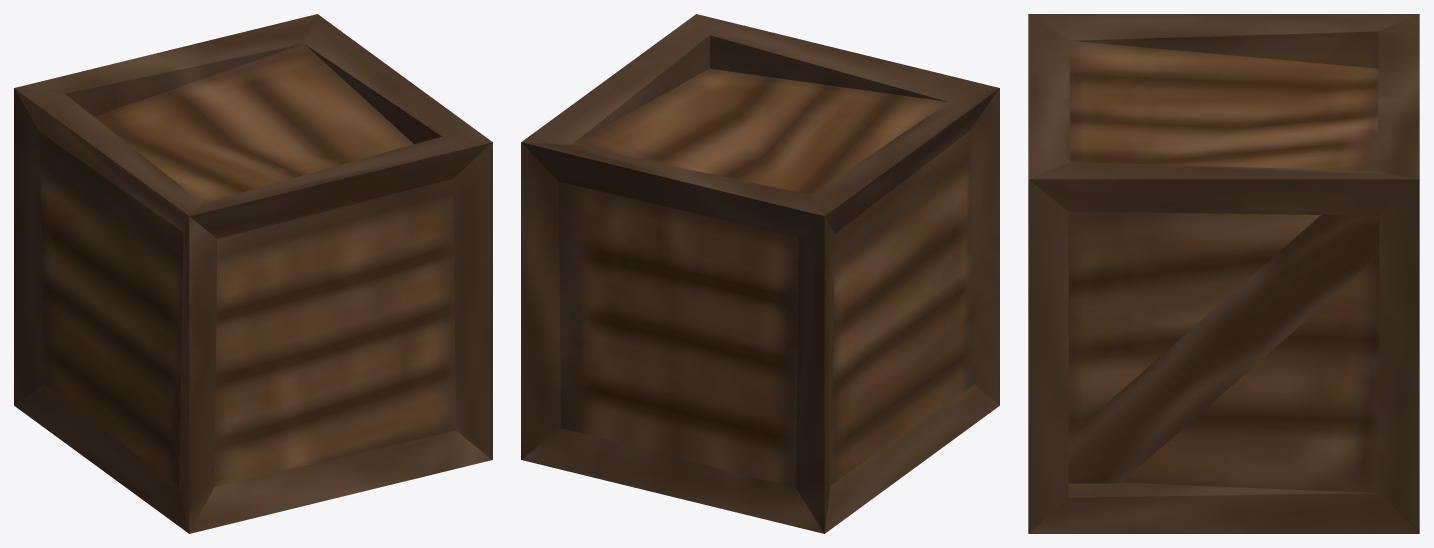
File: Caixa1.fbx
3 renders of one model, left to right at view 1: azimuth 30°, elevation 25°; view 2: azimuth 150°, elevation 25°; view 3: azimuth 270°, elevation 25°, orthographic. The views are drawn at different scales.
Visible parts, largest first — view 1: Caixa; view 2: Caixa; view 3: Caixa.
Boxes of the visible parts, <box> form: Caixa: <box>14,14,492,533</box>; Caixa: <box>521,14,999,533</box>; Caixa: <box>1028,14,1419,533</box>.
Bounding box in the file's own units: 200 × 200 × 200.
